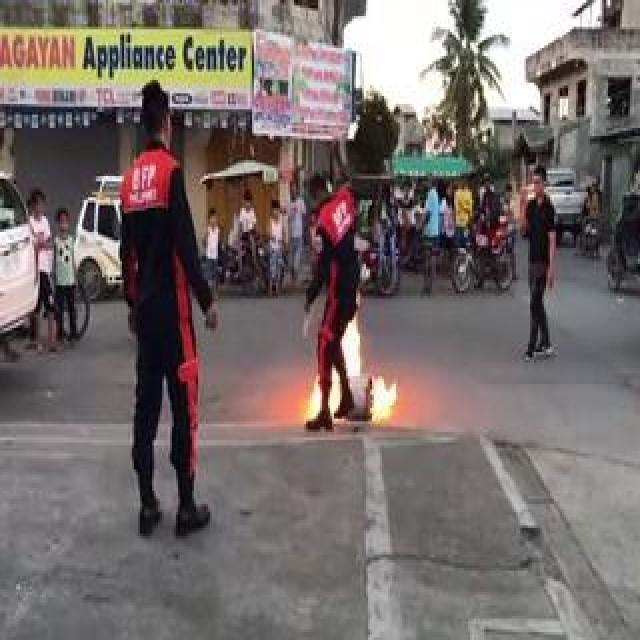Smoke: (304, 306, 394, 409)
